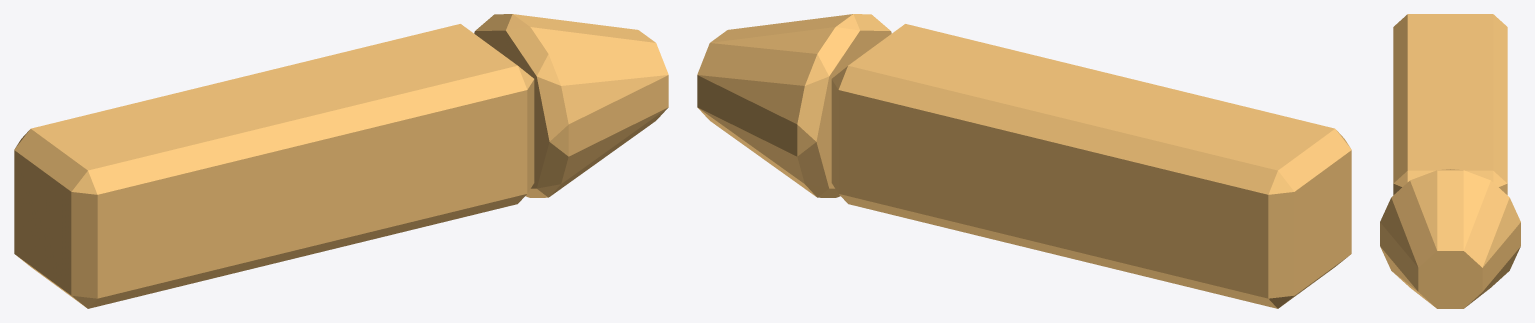
File: tracer.glb
3 renders of one model, left to right at view 1: azimuth 30°, elevation 25°; view 2: azimuth 150°, elevation 25°; view 3: azimuth 270°, elevation 25°, orthographic. The views are drawn at different scales.
Visible parts, largest first — view 1: tracer; view 2: tracer; view 3: tracer.
Part boxes in pixels (x1=…): tracer: x1=14, y1=14, x2=668, y2=308; tracer: x1=697, y1=14, x2=1351, y2=308; tracer: x1=1380, y1=14, x2=1520, y2=308.
Bounding box in the file's own units: 0.5484 × 0.1483 × 0.1483.
